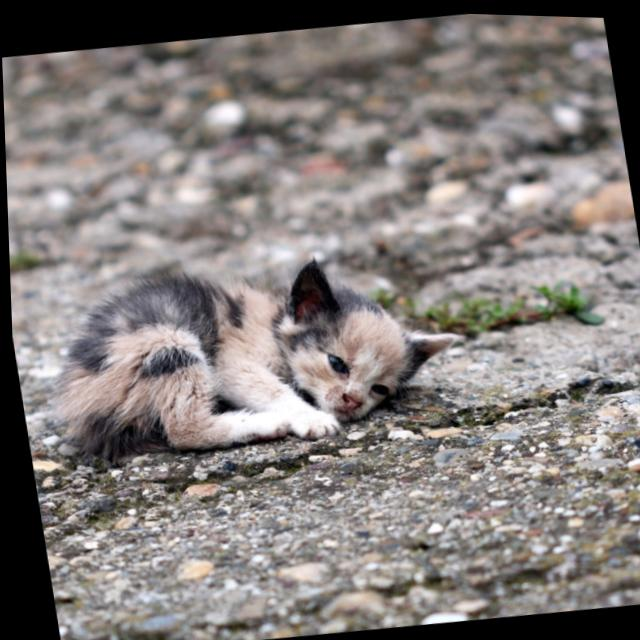animals: (27, 232, 477, 476)
